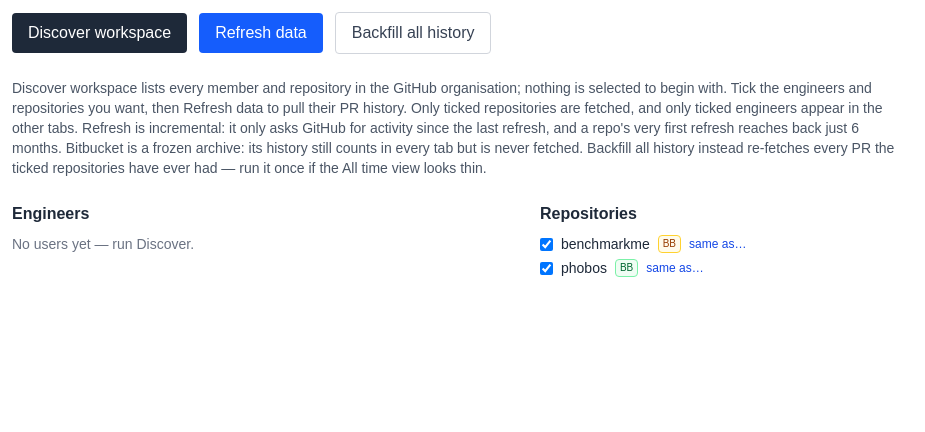
Test: TeamTab skipped repositories › names each skipped repo with a readable reason instead of a raw API URL
This screenshot has width=925, height=432.
Click the button "Refresh data" at x=261, y=33, box [199,13,323,53]
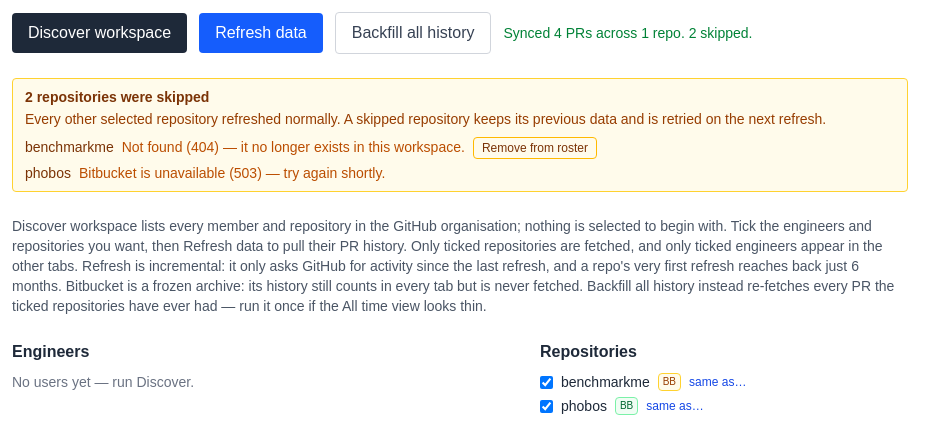
Now the text "Not found (404) — it no longer exists in this workspace." is shown, box [122,137,465,157]
Now the text "Bitbucket is unavailable (503) — try again shortly." is shown, box [79,163,385,183]
Now the number of buttons "Remove from roster" is 1, box [473,137,597,159]
